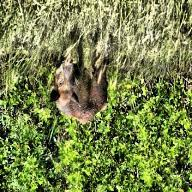boar: (50, 29, 124, 124)
